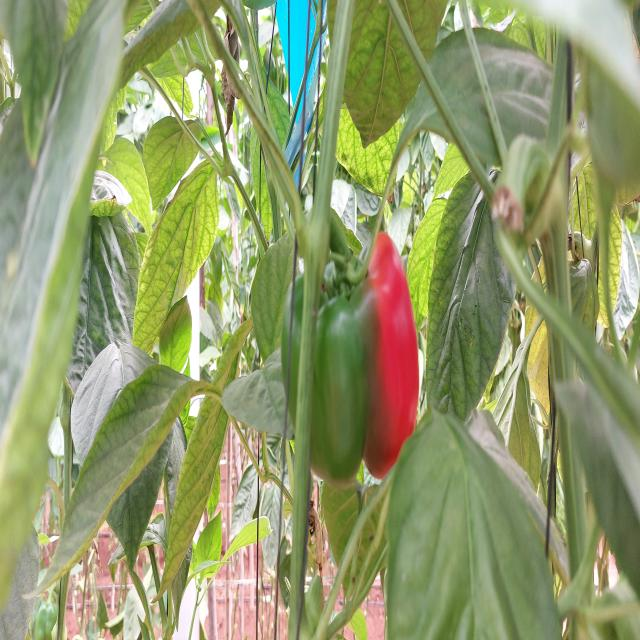BrownishRed--Can-be-Harvested: (288, 259, 421, 481)
